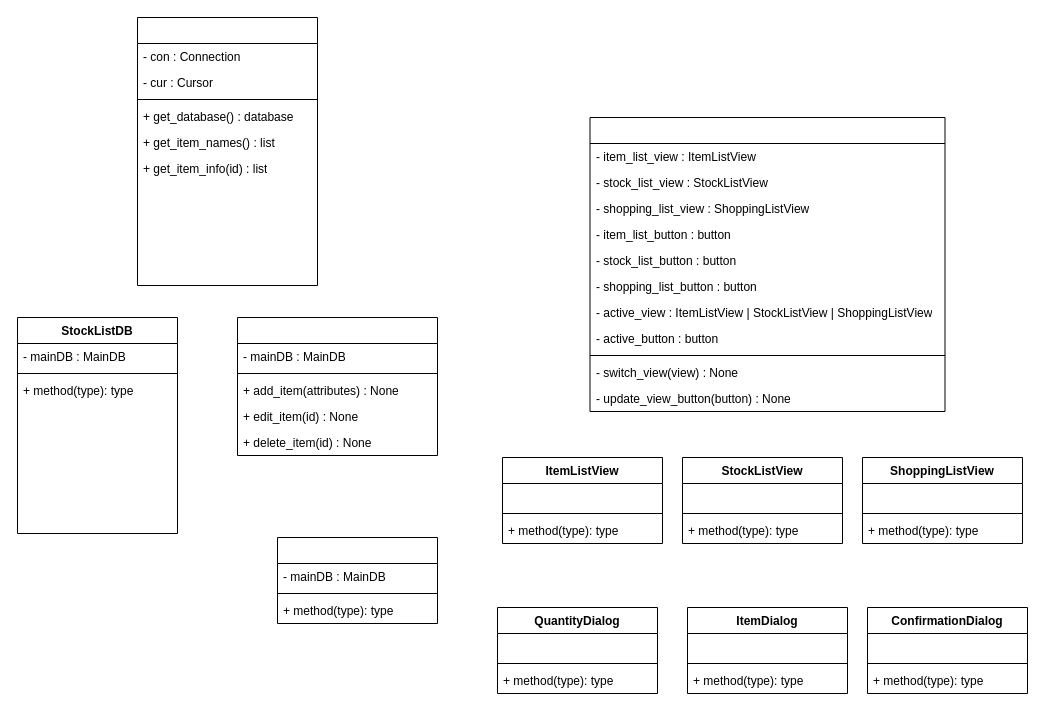
Image size: 1045x714. Some labels were removed from this diagram. The shapes that lost their labels are listed below. From the top down, each one's box as (x1, y1, x2, y2) in pixels, then its label:
(136, 16, 318, 286): MainDB
(589, 116, 945, 412): MainView : tk.Frame
(236, 316, 438, 456): ItemListDB
(276, 536, 438, 624): ShoppingListDB
